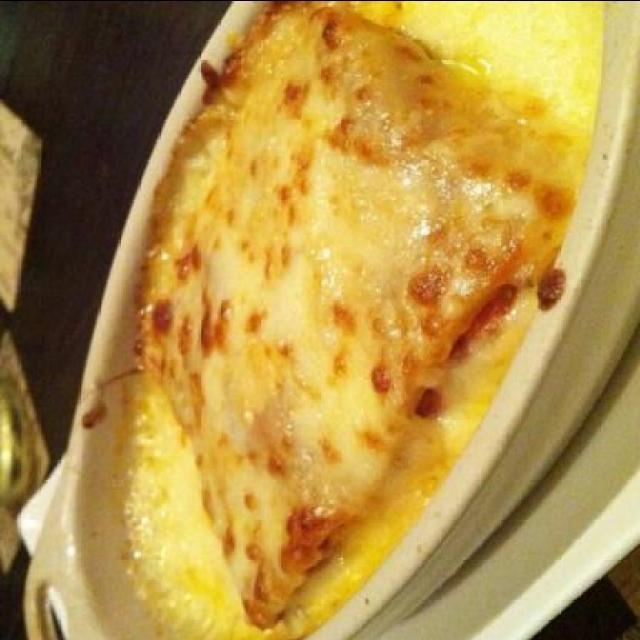Lasagna: (140, 24, 563, 600)
